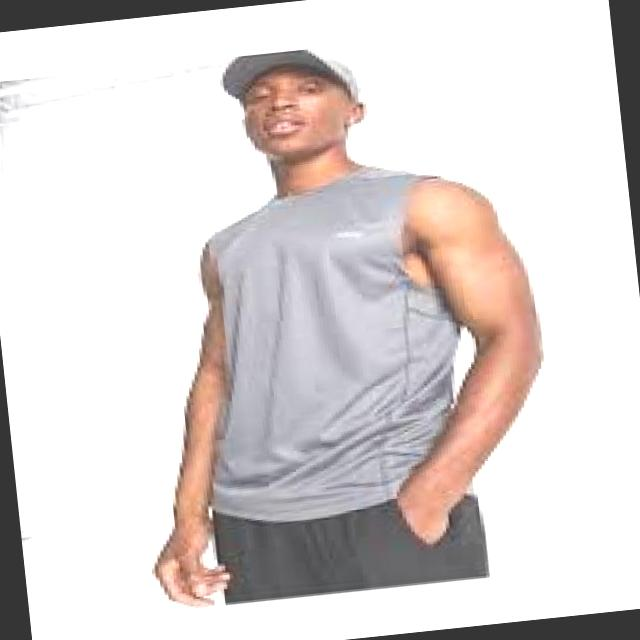no_vest: (174, 154, 487, 532)
